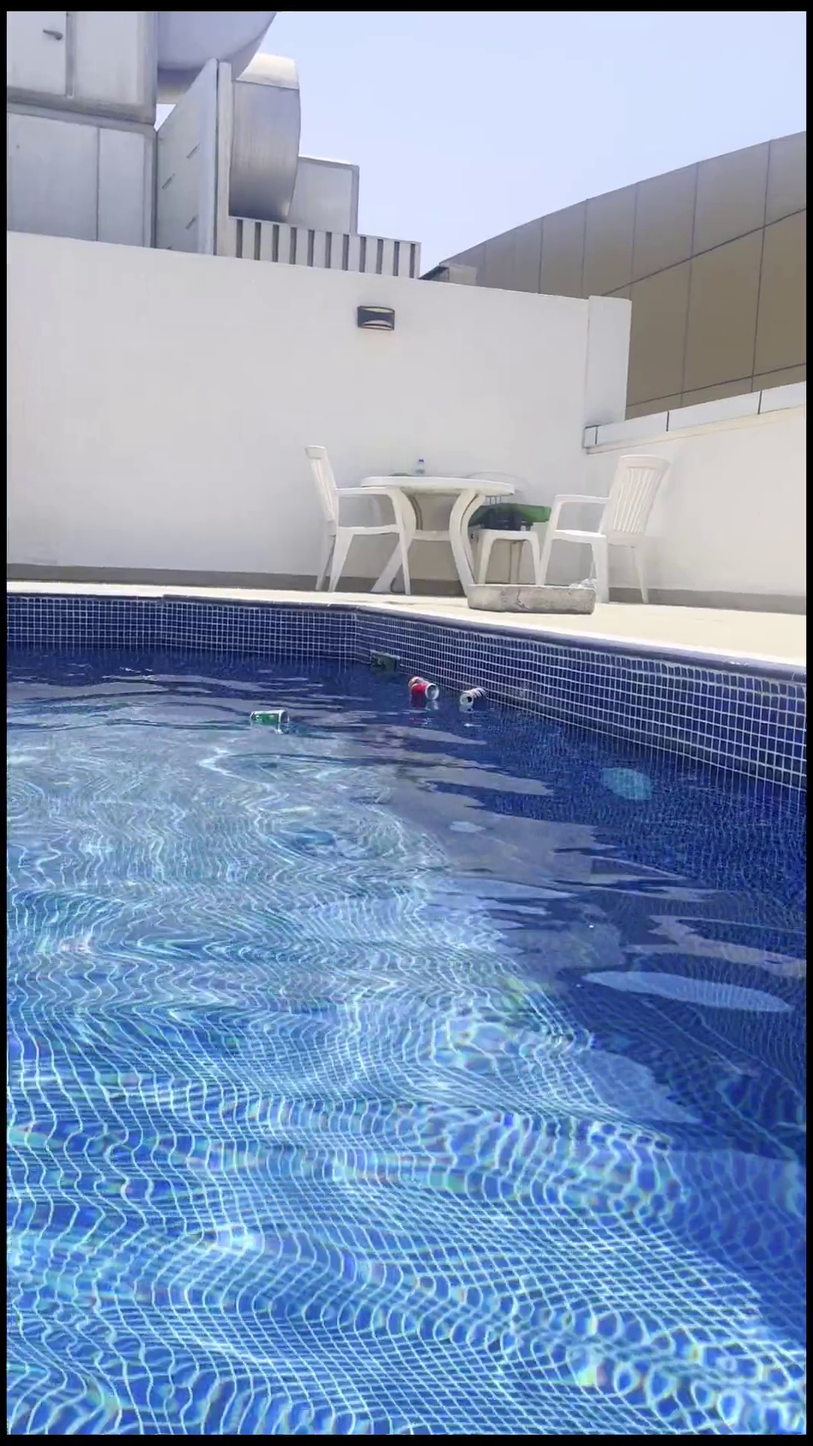debris: (246, 699, 290, 751), (456, 672, 486, 729), (405, 669, 441, 715)
